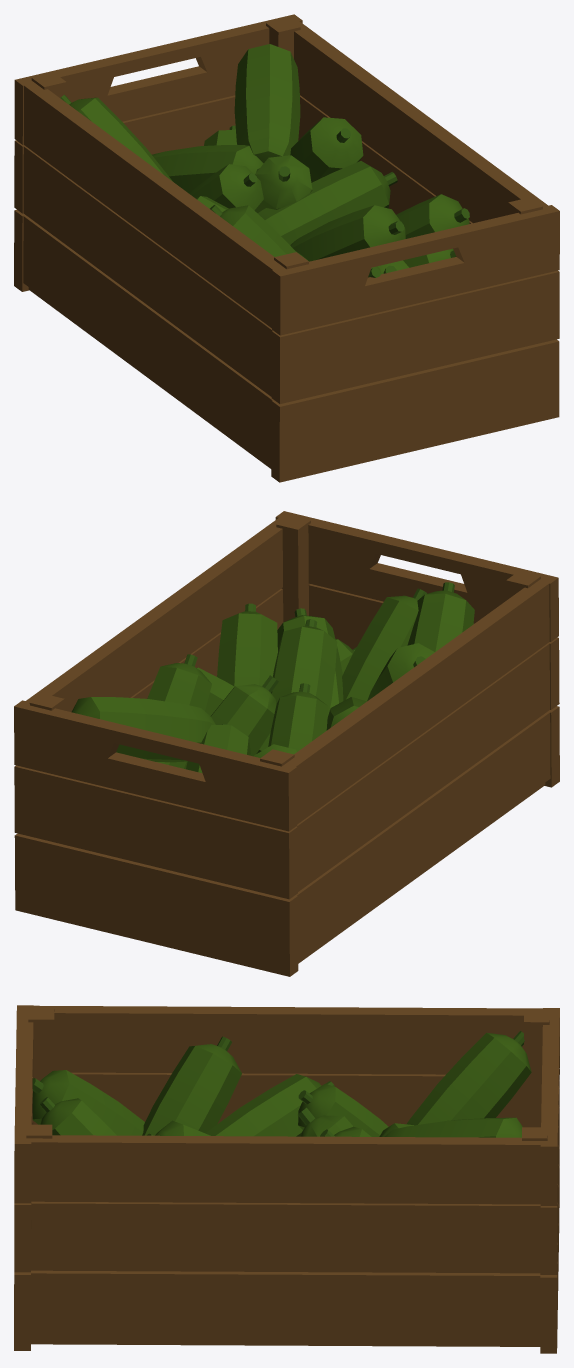
File: Cucember_1.fbx
3 views of the same model, one above another, from view 1: azimuth 30°, elevation 25°; view 2: azimuth 150°, elevation 25°; view 3: azimuth 270°, elevation 25° (orthographic).
Parts seen in each view (by area): view 1: Cucember_1; view 2: Cucember_1; view 3: Cucember_1.
Part boxes in pixels (x1,y1,x2,y2): Cucember_1: (14,14,559,482); Cucember_1: (14,511,559,976); Cucember_1: (14,1005,559,1353).
Size of the model in its own units: 69.33 by 49.42 by 115.
